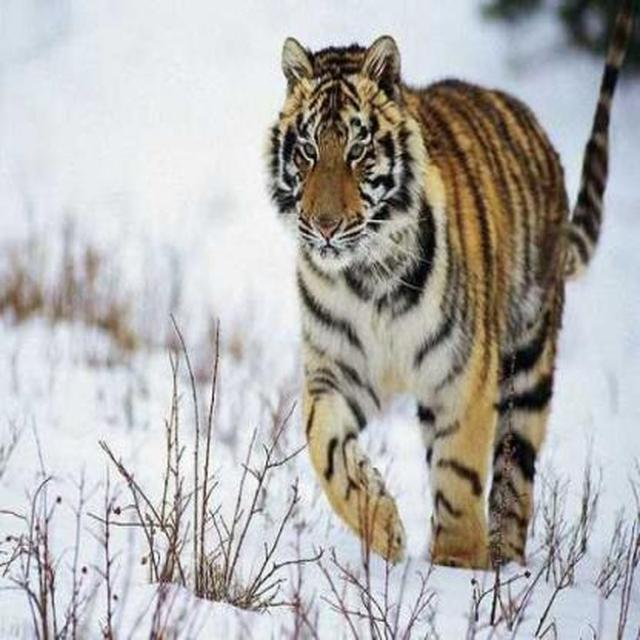tiger: (263, 0, 638, 571)
